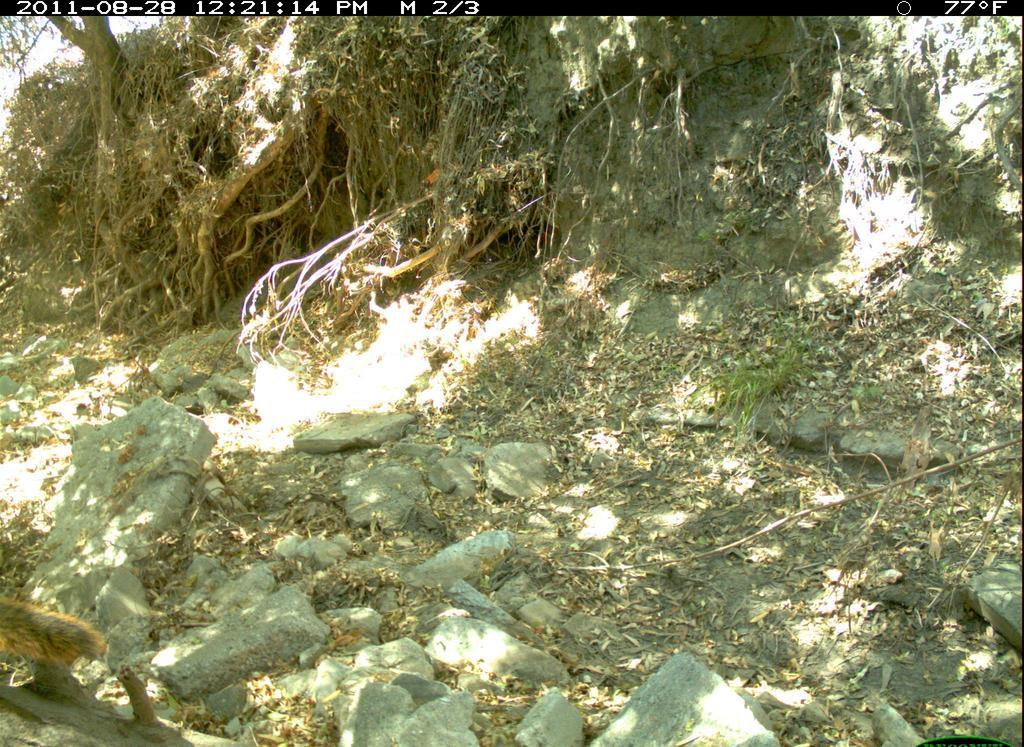squirrel: (1, 585, 111, 679)
